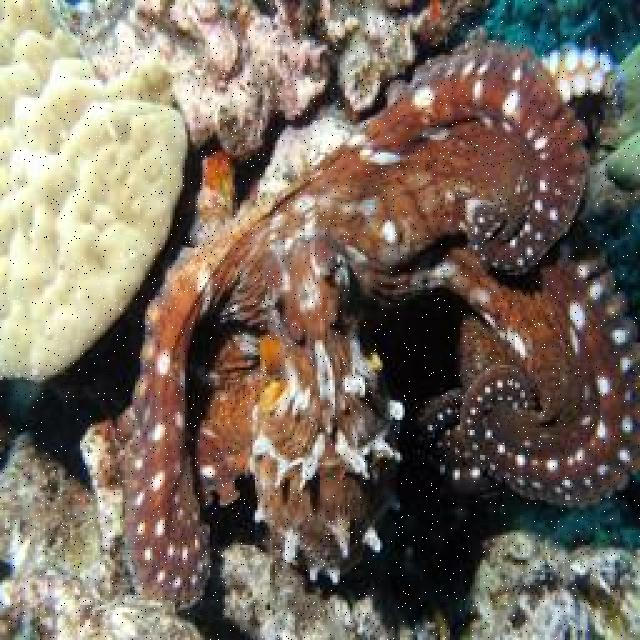reefs: (112, 41, 636, 616), (0, 0, 189, 386)
